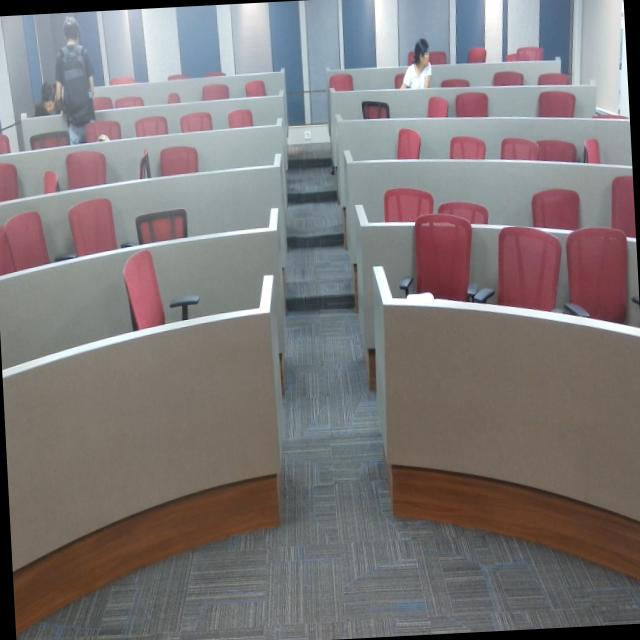cheating: (399, 30, 436, 95)
